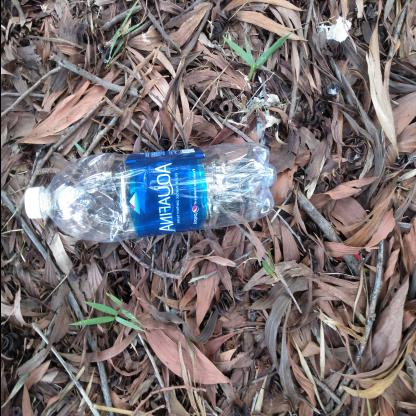plastik: (18, 141, 276, 243)
